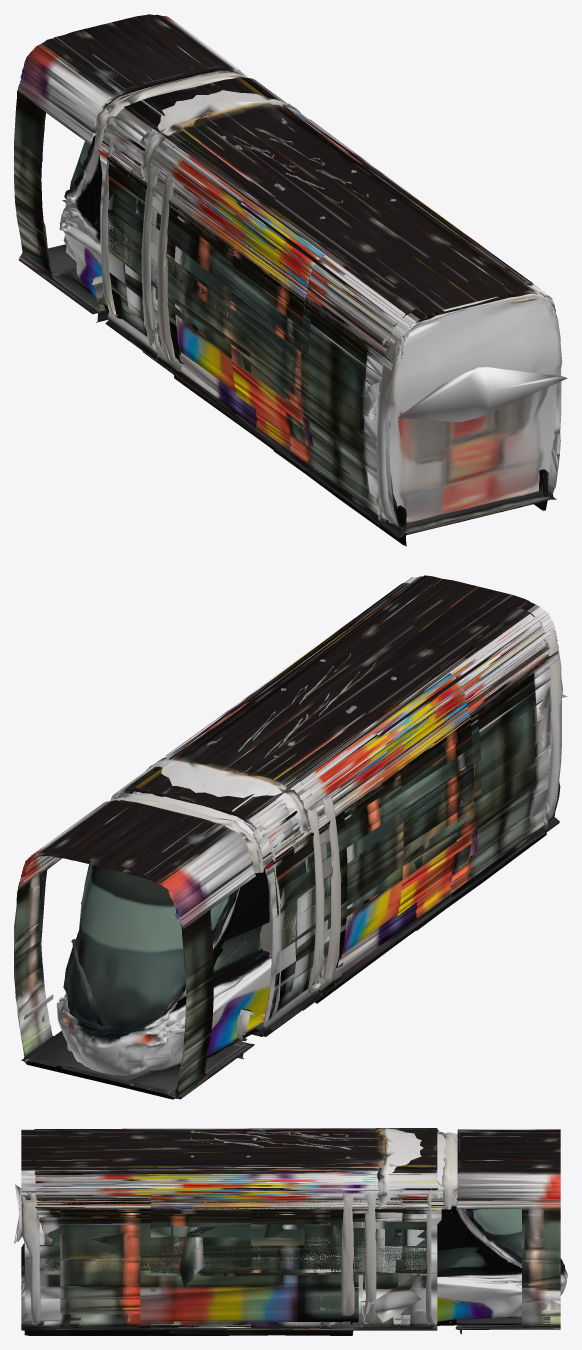
The model's file is angers302_body.glb.
3 renders of one model, top to bottom at view 1: azimuth 30°, elevation 25°; view 2: azimuth 150°, elevation 25°; view 3: azimuth 270°, elevation 25°, orthographic. The views are drawn at different scales.
Parts seen in each view (by area): view 1: Module04, Module00, Module02, Module03, Module01; view 2: Module00, Module04, Module02, Module01, Module03; view 3: Module00, Module04, Module02, Module03, Module01.
Part boxes in pixels (x1,y1,x2,y2): Module04: (14, 14, 567, 525); Module00: (59, 76, 561, 546); Module02: (107, 81, 396, 468); Module03: (108, 86, 425, 469); Module01: (101, 95, 434, 445); Module00: (56, 575, 561, 1075); Module04: (14, 582, 567, 1099); Module02: (143, 653, 473, 1031); Module01: (123, 649, 473, 1022); Module03: (121, 643, 473, 1031); Module00: (21, 1128, 567, 1335); Module04: (14, 1128, 560, 1334); Module02: (150, 1129, 431, 1329); Module03: (150, 1129, 431, 1335); Module01: (150, 1130, 431, 1327).
Size of the model in its own units: 2.4 by 3.18 by 9.
1 material, 1 textured.
